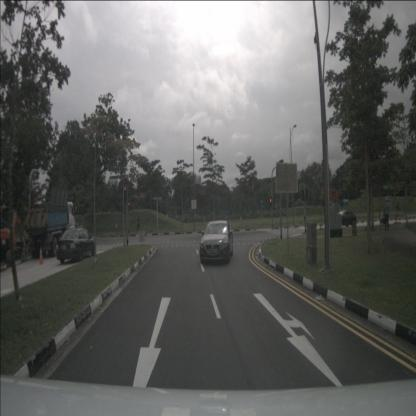cone: (39, 248, 44, 264)
